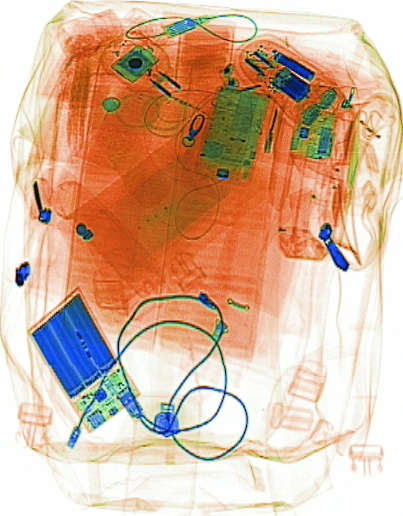powerbank: (21, 284, 142, 434)
